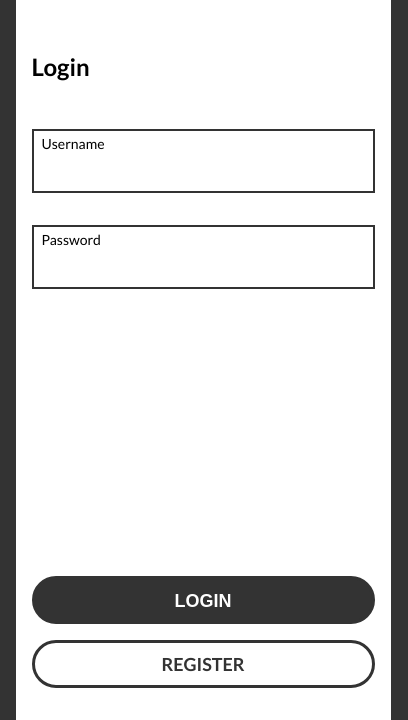
Test: empty fields validation › password field empty only
The width and height of the screenshot is (408, 720).
In the field labelled "Username": (203, 167) [42, 151, 364, 183], type "kevintest"
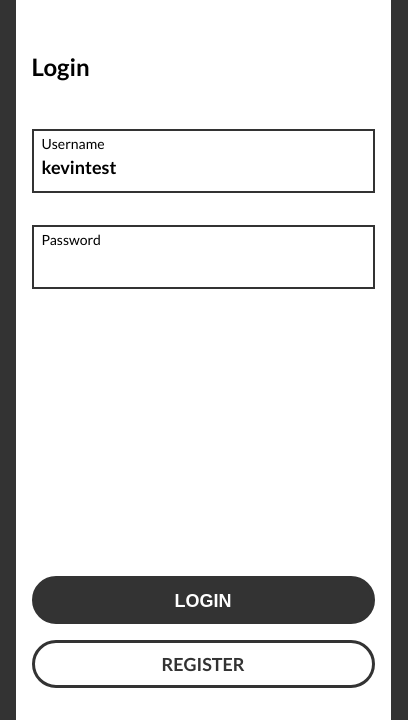
Click the button "LOGIN": click(203, 600) [32, 576, 374, 624]
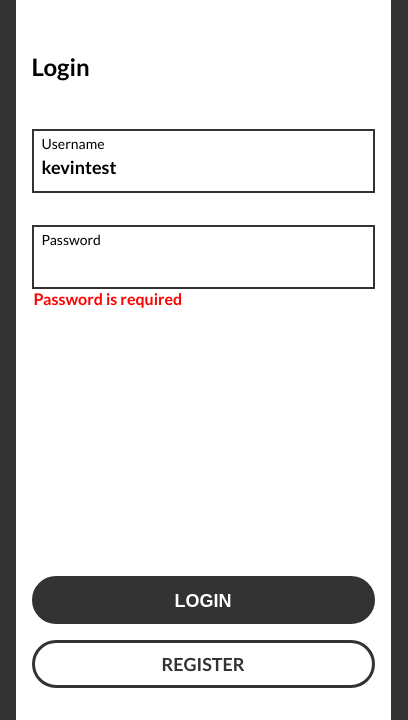
Expected: the messages read "Password is required", in this order, [34, 289, 182, 308]
